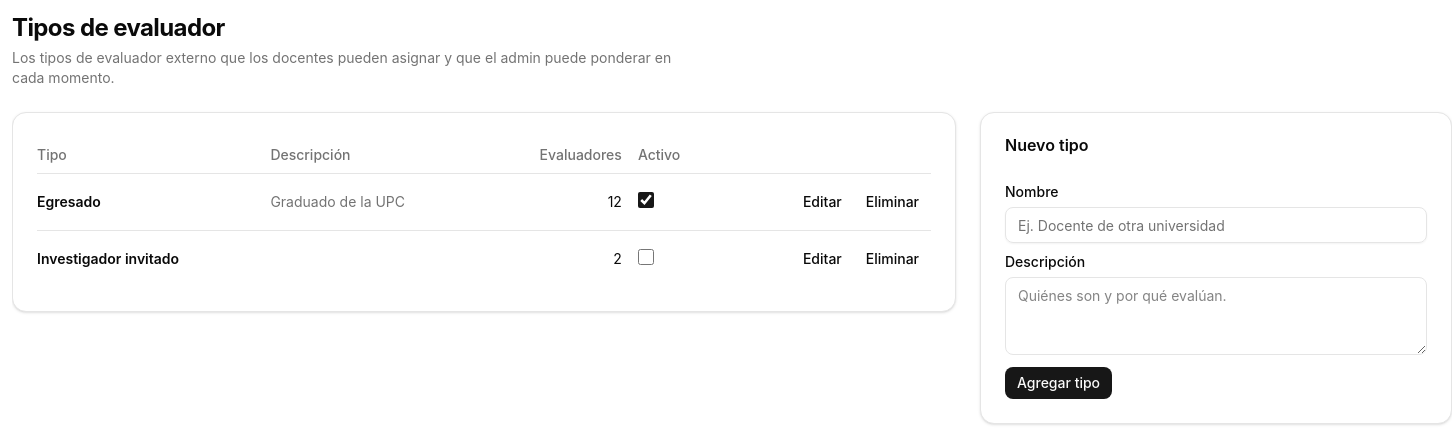
Test: EvaluatorTypesPage › explains why a type in use cannot be deleted
Click the button with aria-label "Eliminar Egresado": (892, 202) [854,186,931,218]
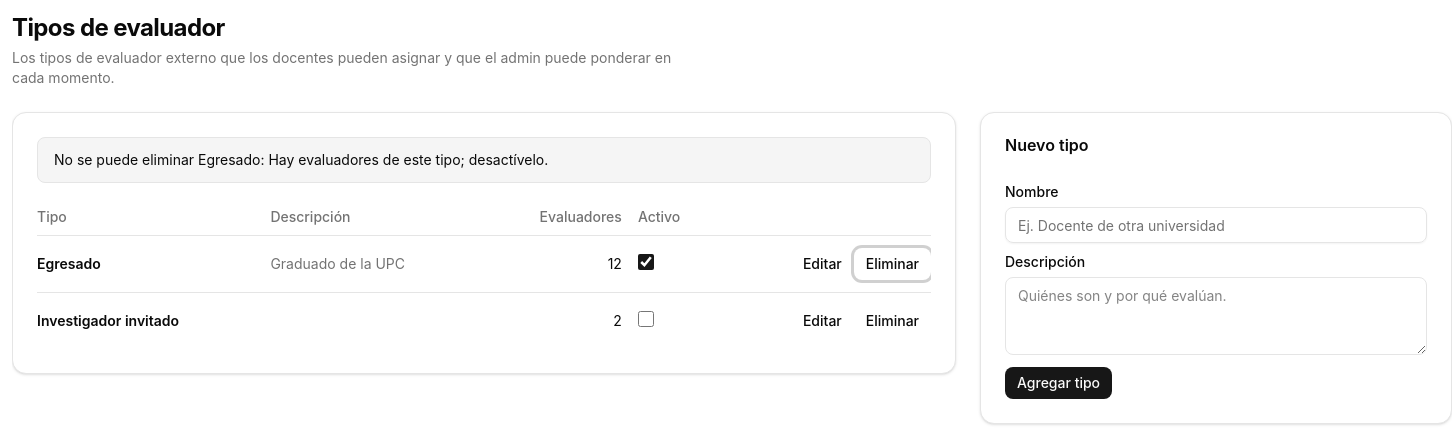
Result: the message shows "No se puede eliminar Egresado: Hay evaluadores" at [54,151,548,168]
